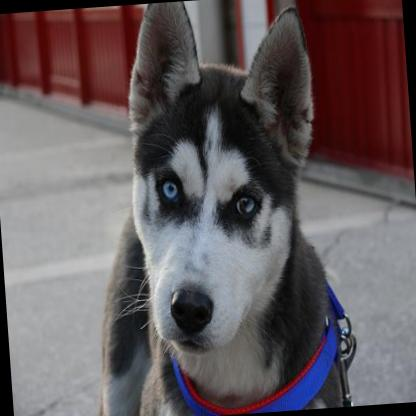Eskimo_dog: (61, 0, 365, 416)
